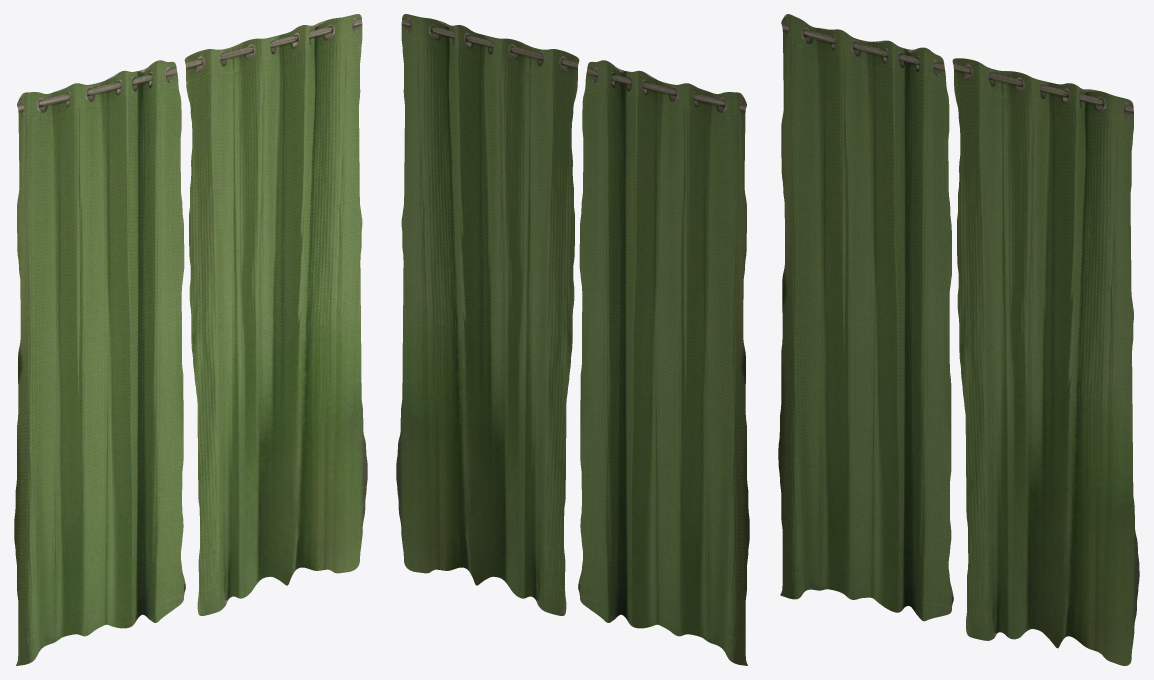
Rendered from editedcurtain.glb.
3 renders of one model, left to right at view 1: azimuth 30°, elevation 25°; view 2: azimuth 150°, elevation 25°; view 3: azimuth 330°, elevation 25°, orthographic. The views are drawn at different scales.
Parts seen in each view (by area): view 1: Mesh_0; view 2: Mesh_0; view 3: Mesh_0.
Part boxes in pixels (x1,y1,x2,y2): Mesh_0: (14,14,367,665); Mesh_0: (396,14,749,665); Mesh_0: (778,14,1139,665).
Size of the model in its own units: 5.09 by 7.88 by 0.
Materials: 1 (1 with a texture image).
